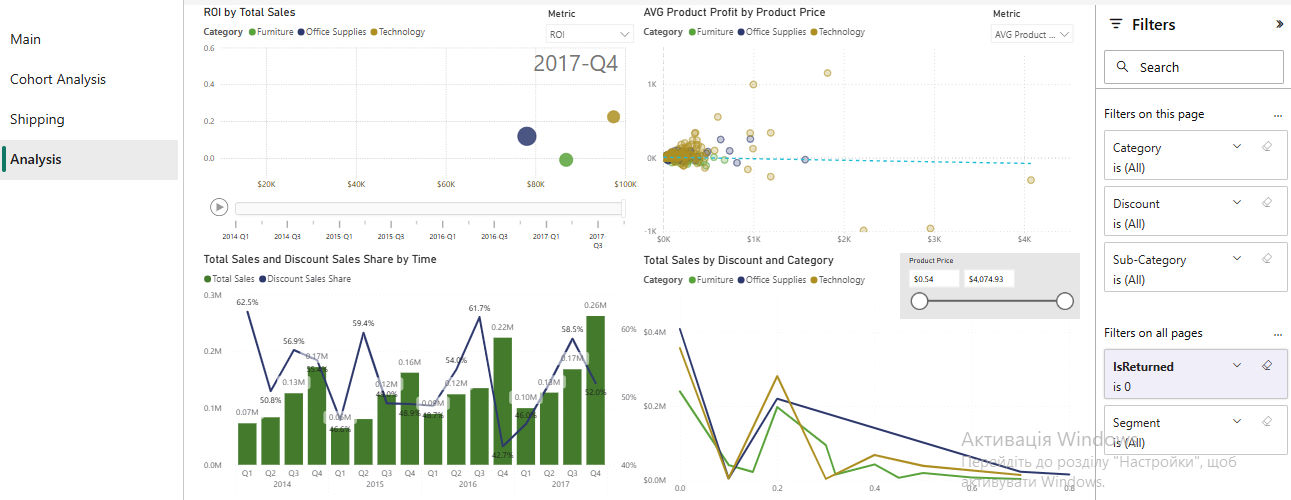

The page's visual inventory and layout, read from the dashboard file:
{"tool":"powerbi","page":{"name":"Analysis","canvas":[1280,720],"ordinal":4},"visuals":[{"type":"scatterChart","fields":{"Series":["Products.Category Hierarchy.Category"],"X":["Products.Product Price"],"Y":["Metric Selector (Scatter plot).Dynamic Metric Scatter Plot"]},"box":[640.6,0,639.4,359.7],"z":0},{"type":"scatterChart","fields":{"Series":["Products.Category Hierarchy.Category"],"Play":["DimDate.YearQuarter"],"Y":["Metric Selector (Scatter animation).Dynamic Metric Scatter Animation"],"X":["_Mesures.Total Sales"],"Size":["_Mesures.Number of Orders"]},"box":[0,0,640.6,359.7],"z":2000},{"type":"lineChart","fields":{"Category":["Facts.Discount"],"Series":["Products.Category"],"Y":["_Mesures.Total Sales"]},"box":[640.7,360.3,639.3,360.3],"z":3000},{"type":"slicer","fields":{"Values":["Products.Product Price"]},"box":[1018.9,360.5,261.1,94.5],"z":3500},{"type":"slicer","fields":{"Values":["Metric Selector (Scatter plot).Metric"]},"box":[1140,0,140,72.8],"z":4000},{"type":"slicer","fields":{"Values":["Metric Selector (Scatter animation).Metric"]},"box":[492.9,0,147.6,58.8],"z":5000},{"type":"lineClusteredColumnComboChart","title":"Total Sales and Discount Sales Share by Time","fields":{"Category":["DimDate.Chronos.Year","DimDate.Chronos.Quarter","DimDate.Chronos.MonthName","DimDate.Chronos.Date"],"Y":["_Mesures.Total Sales (Fix Discount)"],"Y2":["_Mesures.Discount Sales Share"]},"box":[0,359.7,640.6,360.8],"z":6000}]}

Visuals, with their boxes on the page's 1280x720 design canvas (x1, y1, x2, y2). These are canvas units, not pixel positions in the 1291x500 screenshot, which may show the page scaled, cropped or inside an application window:
scatterChart - Products.Category Hierarchy.Category x Products.Product Price: bbox=[641, 0, 1280, 360]
scatterChart - Products.Category Hierarchy.Category x DimDate.YearQuarter: bbox=[0, 0, 641, 360]
lineChart - Facts.Discount x Products.Category: bbox=[641, 360, 1280, 721]
slicer - Products.Product Price: bbox=[1019, 360, 1280, 455]
slicer - Metric Selector (Scatter plot).Metric: bbox=[1140, 0, 1280, 73]
slicer - Metric Selector (Scatter animation).Metric: bbox=[493, 0, 640, 59]
"Total Sales and Discount Sales Share by Time" lineClusteredColumnComboChart: bbox=[0, 360, 641, 720]
